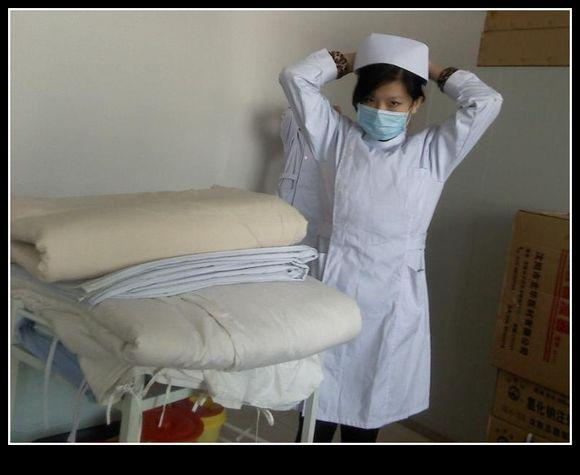OK: (358, 89, 409, 137)
